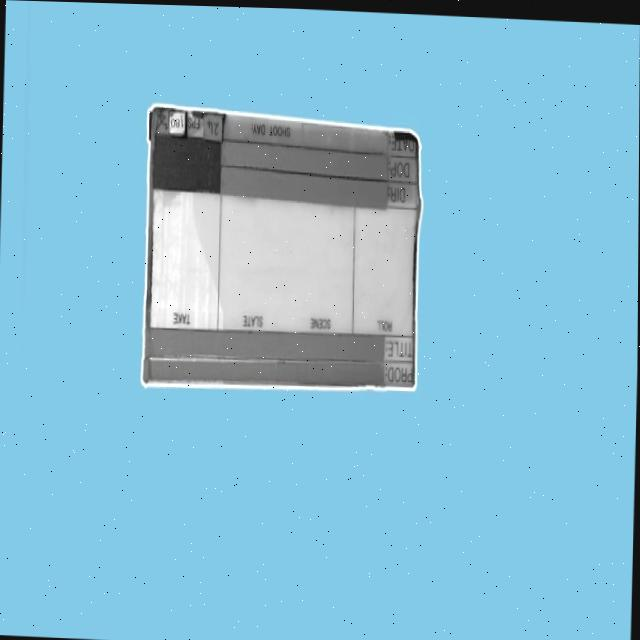Clapperboard: (138, 99, 424, 394)
